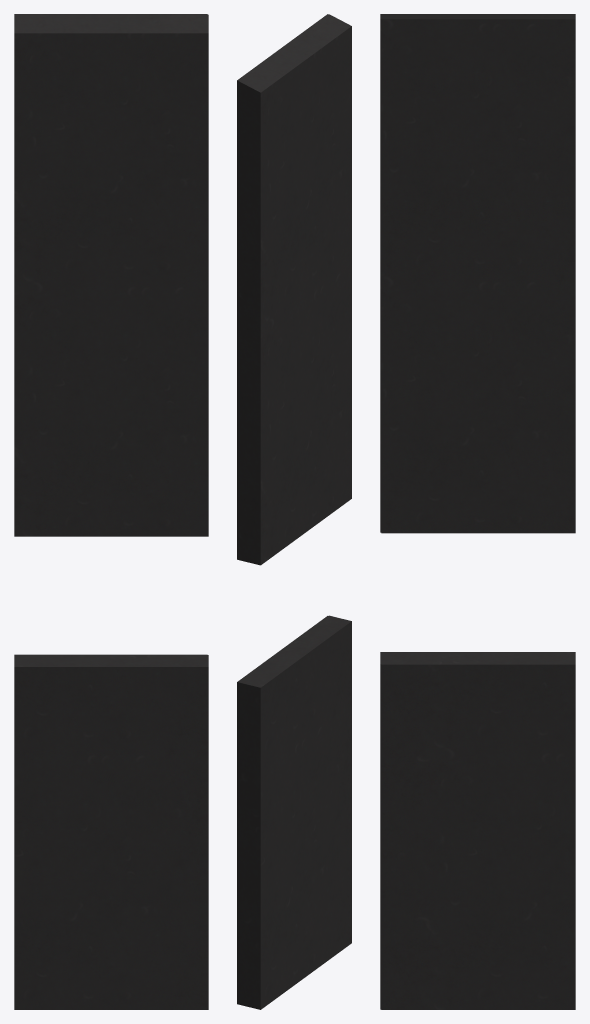
File: A13.1.1 H.WALL. PNL 2901 UP + 1950 DWN.fbx
3 renders of one model, left to right at view 1: azimuth 90°, elevation 25°; view 2: azimuth 150°, elevation 25°; view 3: azimuth 270°, elevation 25°, orthographic. The views are drawn at different scales.
Visible parts, largest first — view 1: Model, Group1; view 2: Model, Group1; view 3: Model, Group1.
Part boxes in pixels (x1,y1,x2,y2): Model: (14,14,208,536); Group1: (14,654,208,1009); Model: (237,14,351,565); Group1: (237,615,351,1009); Model: (380,14,575,533); Group1: (380,652,575,1009).
Size of the model in its own units: 150 by 5592 by 1000.
